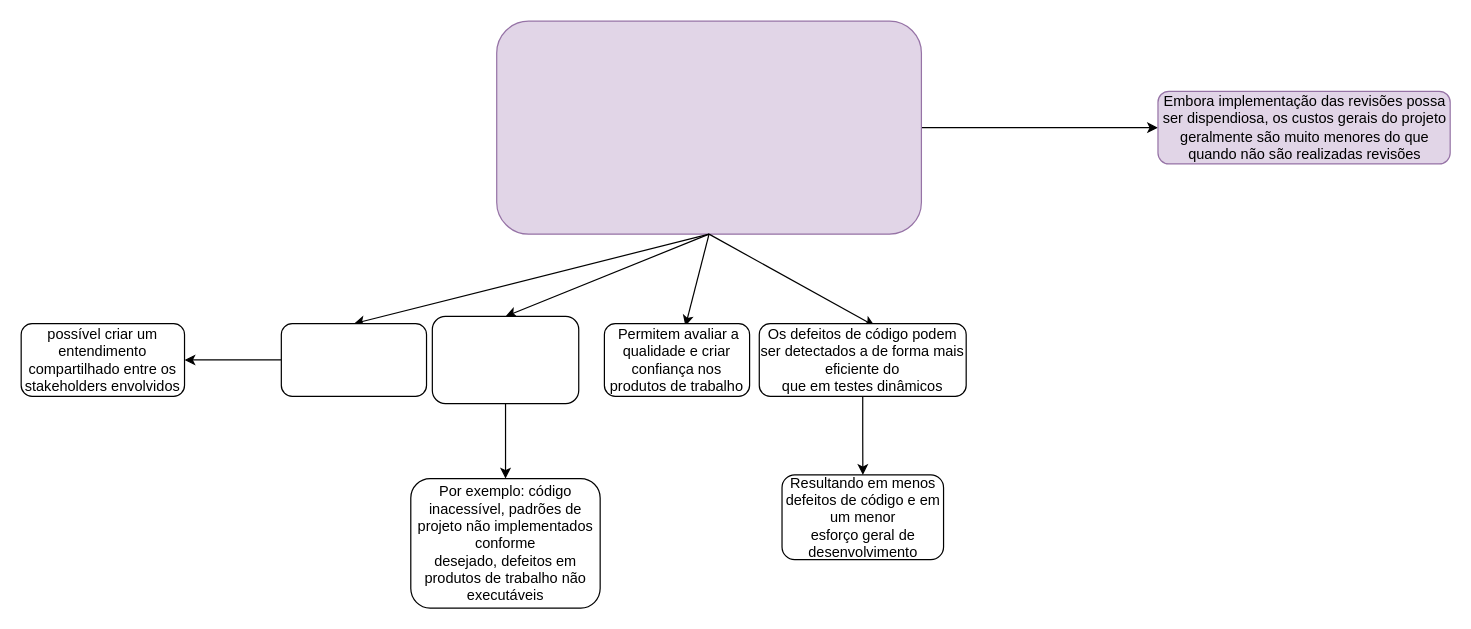
Image size: 1471x629. Some labels were removed from this diagram. Each missing label, with the centre of its shape:
"Pode detectar defeitos nas primeiras fases do SDLC," belongs at point 353,359.
"Pode identificar defeitos que não podem ser detectados por testes dinâmicos" belongs at point 505,359.
"Valor do teste estático" belongs at point 708,127.
